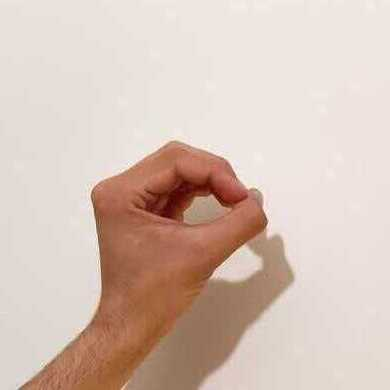O: (90, 140, 268, 329)
